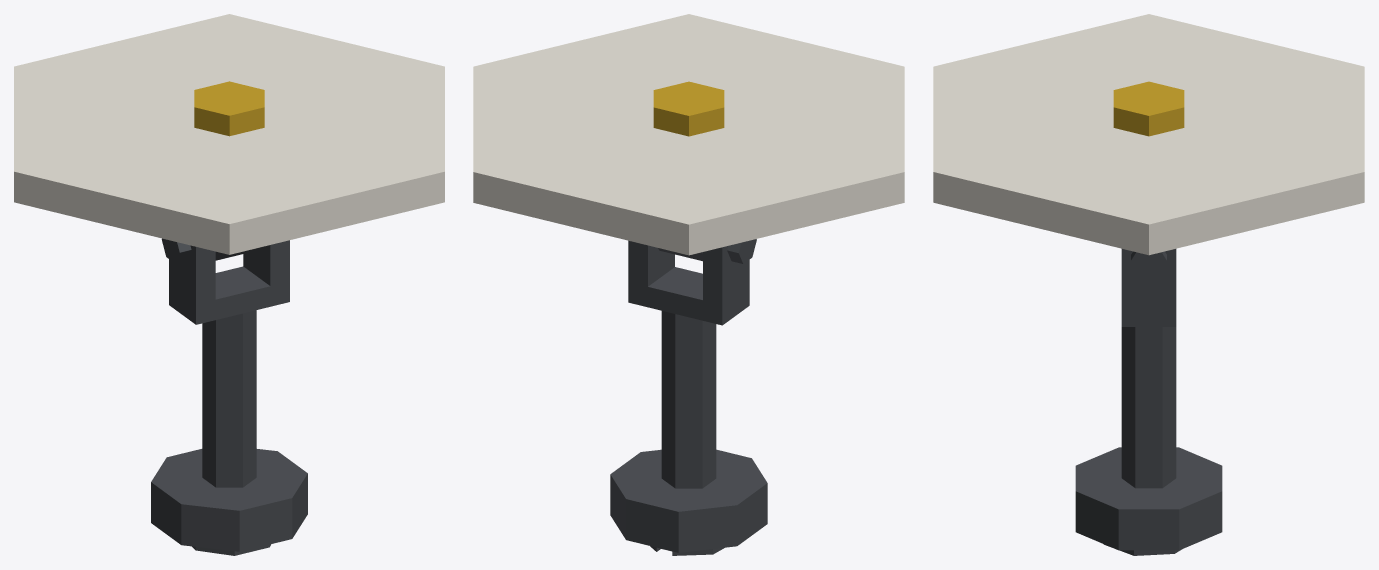
The model's file is antenna.glb.
3 views of the same model, side by side, from view 1: azimuth 30°, elevation 25°; view 2: azimuth 150°, elevation 25°; view 3: azimuth 270°, elevation 25° (orthographic).
Parts seen in each view (by area): view 1: antenna_dish, antenna; view 2: antenna_dish, antenna; view 3: antenna_dish, antenna.
Part boxes in pixels (x1,y1,x2,y2): antenna_dish: [14, 14, 444, 263]; antenna: [151, 240, 307, 555]; antenna_dish: [473, 14, 904, 263]; antenna: [610, 240, 767, 555]; antenna_dish: [933, 14, 1364, 274]; antenna: [1075, 249, 1222, 555].
Size of what is drawn, in the model's own units: 0.22 by 0.213 by 0.1905.
